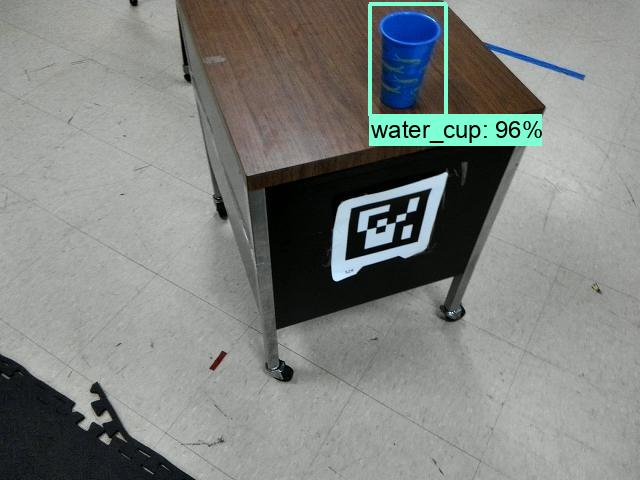water_cup: (361, 9, 443, 115)
